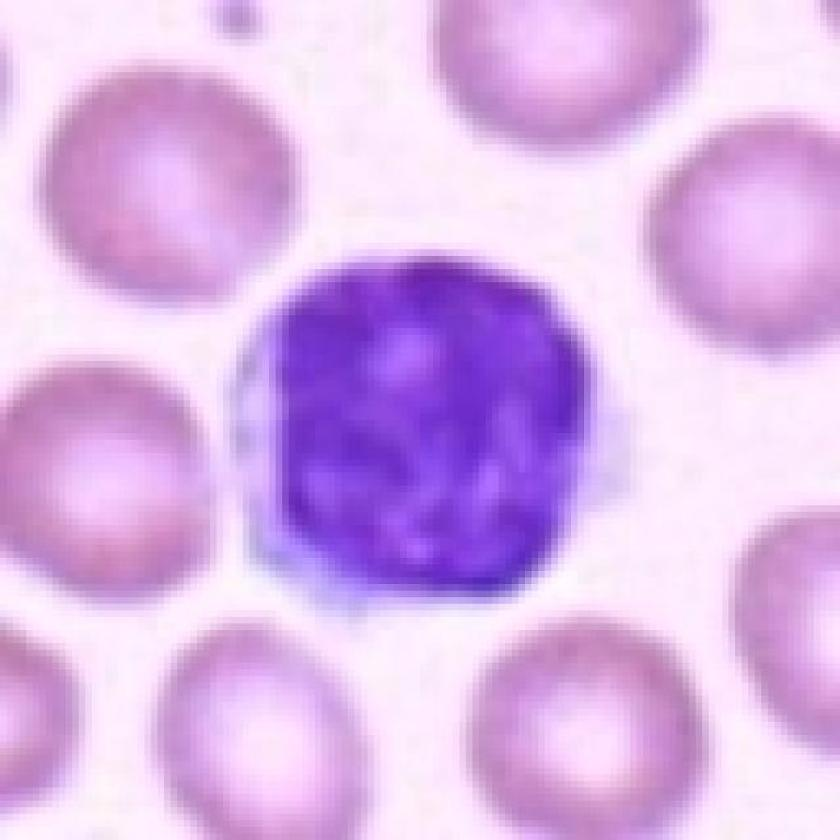lymphocyte: (224, 248, 639, 607)
